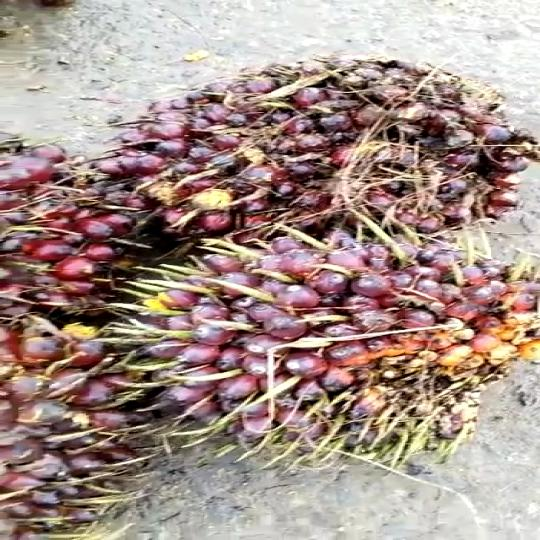kurang masak: (111, 244, 540, 466), (65, 56, 540, 236)
